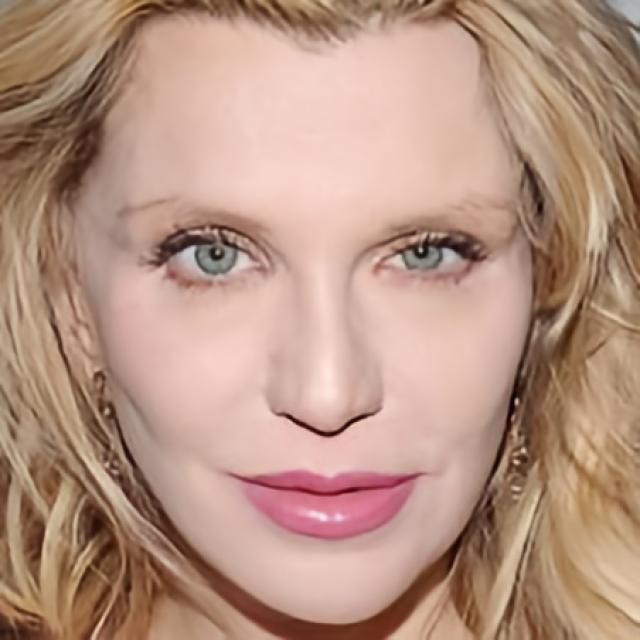content: (77, 0, 534, 622)
